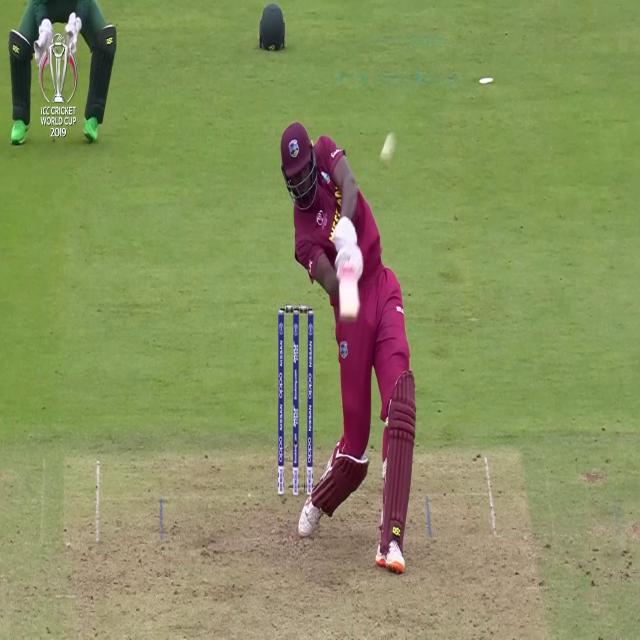ball: (380, 126, 400, 171)
